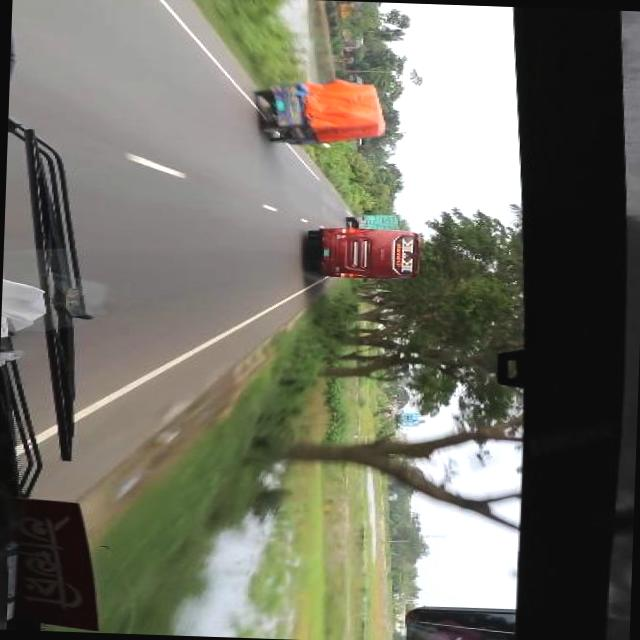bus: (306, 228, 422, 282)
truck: (258, 80, 394, 152), (346, 214, 402, 230)
